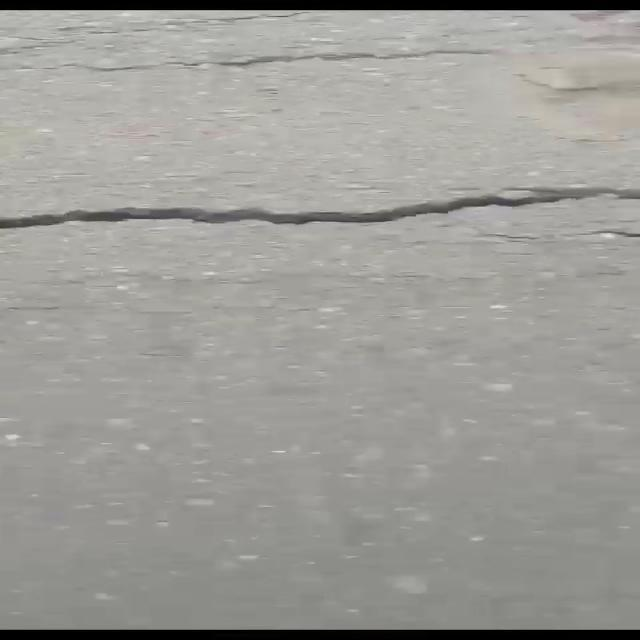Melintang: (0, 172, 640, 244)
